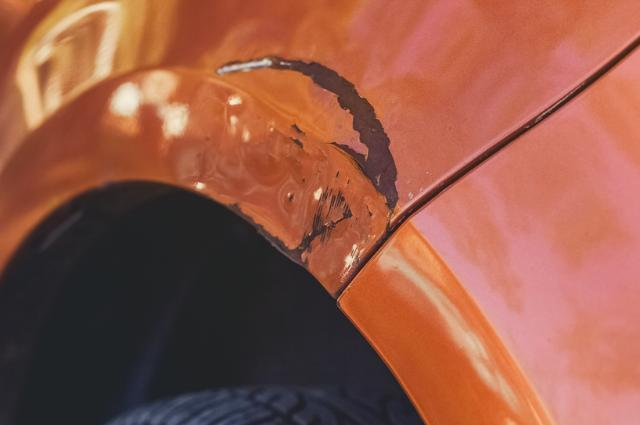Fender: (101, 0, 437, 282)
